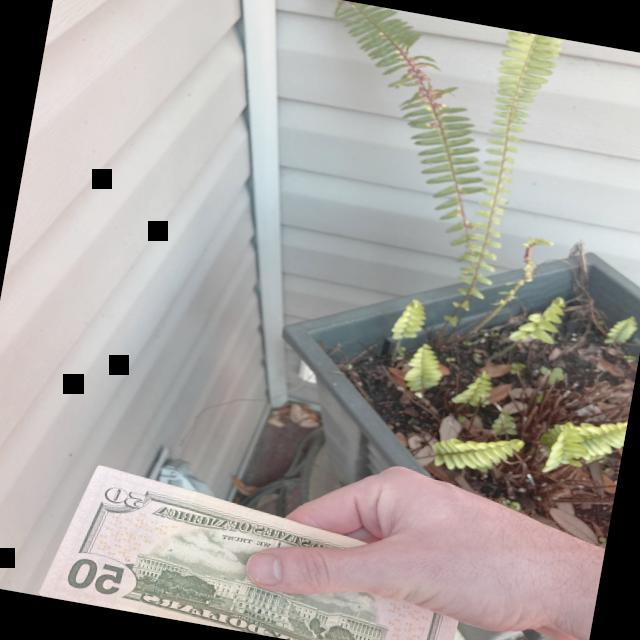fifty: (33, 463, 470, 640)
